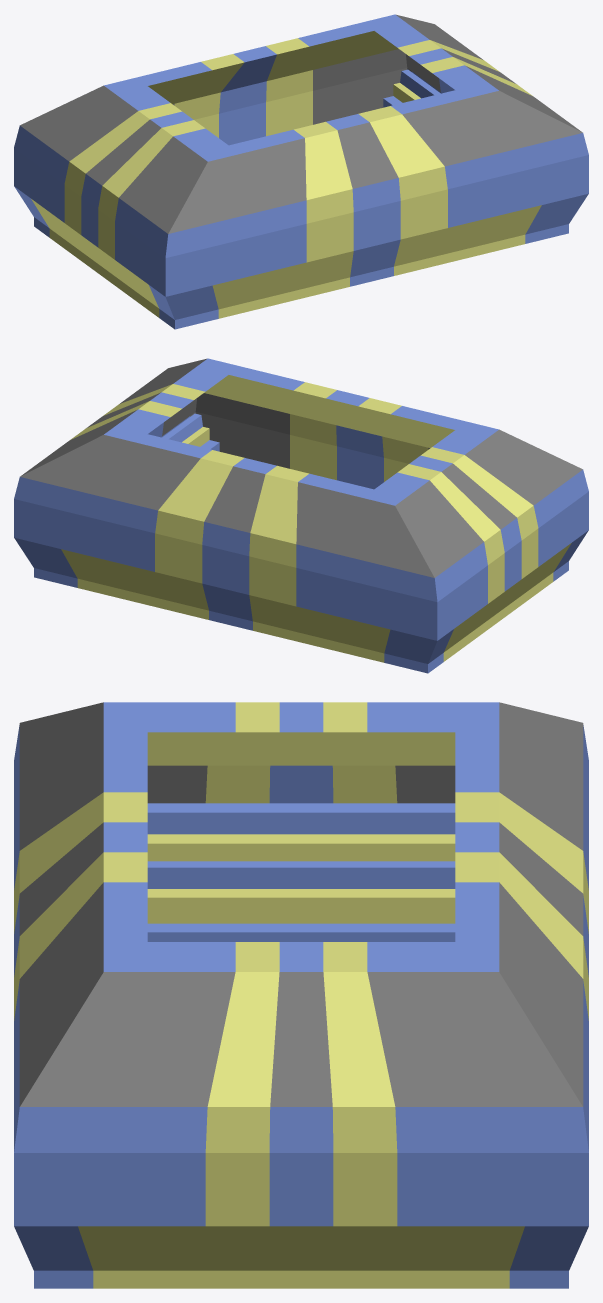
The model's file is Stadion.fbx.
3 renders of one model, top to bottom at view 1: azimuth 30°, elevation 25°; view 2: azimuth 150°, elevation 25°; view 3: azimuth 270°, elevation 25°, orthographic. The views are drawn at different scales.
Visible parts, largest first — view 1: pCube6; view 2: pCube6; view 3: pCube6.
Part boxes in pixels (x1,y1,x2,y2): pCube6: [14, 14, 588, 329]; pCube6: [14, 358, 588, 673]; pCube6: [14, 702, 588, 1288].
Size of the model in its own units: 16.08 by 5.14 by 9.96.
